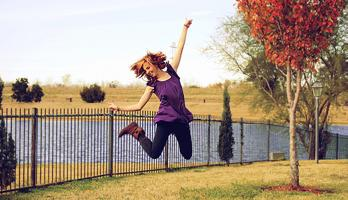person: (107, 17, 202, 160)
